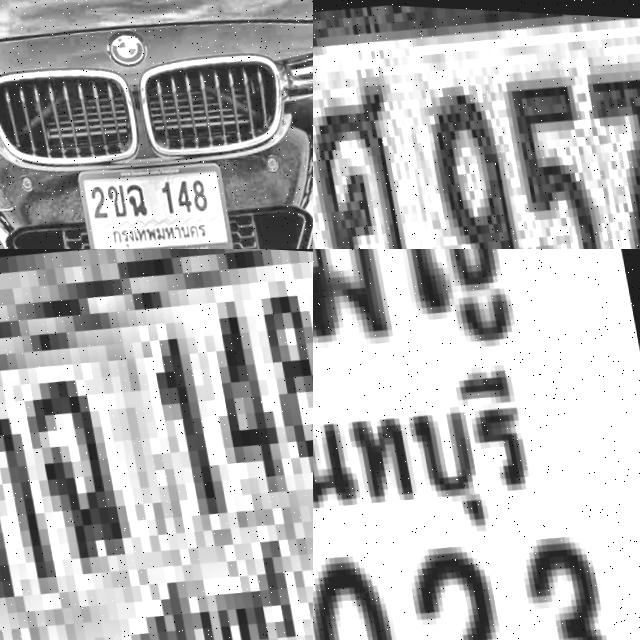license-plate: (313, 249, 640, 640), (0, 249, 313, 640), (313, 0, 640, 249), (69, 140, 233, 249)
